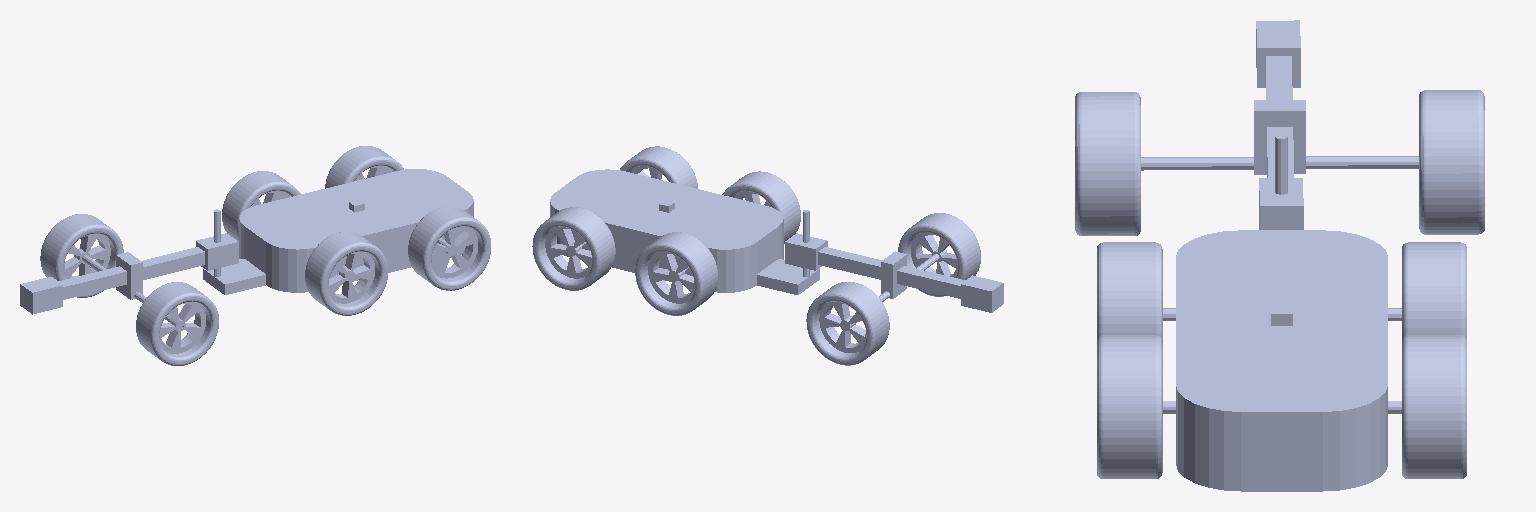
The robot description file, URDF, robot "car_sample":
<?xml version="1.0" encoding="utf-8"?>
<!-- This URDF was automatically created by SolidWorks to URDF Exporter! Originally created by [author] ([email redacted])
     Commit Version: 1.6.0-1-g15f4949  Build Version: 1.6.7594.29634
     For more information, please see http://wiki.ros.org/sw_urdf_exporter -->
<robot
  name="car_sample">
  <link
    name="base_footprint_link">

  </link>
  <link
    name="base_link">
    <inertial>
      <origin
        xyz="0.0311047953221113 -3.07460541279329E-06 0.0988375969266445"
        rpy="0 0 0" />
      <mass
        value="93.7017907857414" />
      <inertia
        ixx="2.05155668597246"
        ixy="-0.000190686516366707"
        ixz="-0.0661121479684108"
        iyy="7.87268899063513"
        iyz="2.91444870281255E-05"
        izz="9.28547608261676" />
    </inertial>
    <visual>
      <origin
        xyz="0 0 0"
        rpy="0 0 0" />
      <geometry>
        <mesh
          filename="package://car_sample/meshes/base_link.STL" />
      </geometry>
      <material
        name="">
        <color
          rgba="0.792156862745098 0.819607843137255 0.933333333333333 1" />
      </material>
    </visual>
    <collision>
      <origin
        xyz="0 0 0"
        rpy="0 0 0" />
      <geometry>
        <mesh
          filename="package://car_sample/meshes/base_link.STL" />
      </geometry>
    </collision>
  </link>
  <gazebo reference="base_link">
    <material>Gazebo/White</material>
    <selfCollide>true</selfCollide>
  </gazebo>
  <joint
    name="base_link_joint"
    type="fixed">
    <origin
      xyz="0 0 0.065"
      rpy="0 0 0" />
    <parent
      link="base_footprint_link" />
    <child
      link="base_link" />
    <axis
      xyz="0 0 0" />
  </joint>
  <link
    name="potential_link">
    <inertial>
      <origin
        xyz="-0.429254748784664 -0.00335150189802721 -0.197173586404001"
        rpy="0 0 0" />
      <mass
        value="6.89001102509344" />
      <inertia
        ixx="0.0468982581959443"
        ixy="-0.00452622726574964"
        ixz="0.000258875342996197"
        iyy="0.646005462114825"
        iyz="-1.08164098234481E-05"
        izz="0.676451866172125" />
    </inertial>
    <visual>
      <origin
        xyz="0 0 0"
        rpy="0 0 0" />
      <geometry>
        <mesh
          filename="package://car_sample/meshes/potential_link.STL" />
      </geometry>
      <material
        name="">
        <color
          rgba="0.792156862745098 0.819607843137255 0.933333333333333 1" />
      </material>
    </visual>
    <collision>
      <origin
        xyz="0 0 0"
        rpy="0 0 0" />
      <geometry>
        <mesh
          filename="package://car_sample/meshes/potential_link.STL" />
      </geometry>
    </collision>
  </link>
<gazebo reference="potential_link">
    <material>Gazebo/White</material>
    <selfCollide>true</selfCollide>
  </gazebo>
  <joint
    name="potential_link_joint"
    type="continuous">
    <origin
      xyz="-0.63078 -0.0013586 0.35"
      rpy="0 0 0" />
      <dynamics friction="2"/>
    <parent
      link="base_link" />
    <child
      link="potential_link" />
    <axis
      xyz="0 0 1" />
    <limit
      lower="0"
      upper="0"
      effort="0"
      velocity="0" />
  </joint>
  <link
    name="L_link">
    <inertial>
      <origin
        xyz="0.00019519 -0.024999 2.2204E-16"
        rpy="0 0 0" />
      <mass
        value="6.789" />
      <inertia
        ixx="0.073434"
        ixy="-0.00042251"
        ixz="-1.4684E-17"
        iyy="0.12754"
        iyz="-2.6995E-17"
        izz="0.073431" />
    </inertial>
    <visual>
      <origin
        xyz="0 0 0"
        rpy="0 0 0" />
      <geometry>
        <mesh
          filename="package://car_sample/meshes/L_link.STL" />
      </geometry>
      <material
        name="">
        <color
          rgba="0.79216 0.81961 0.93333 1" />
      </material>
    </visual>
    <collision>
      <origin
        xyz="0 0 0"
        rpy="0 0 0" />
      <geometry>
        <mesh
          filename="package://car_sample/meshes/L_link.STL" />
      </geometry>
    </collision>
  </link>
<gazebo reference="L_link">
    <material>Gazebo/Black</material>
    <selfCollide>true</selfCollide>
  </gazebo>
  <joint
    name="L_joint"
    type="continuous">
    <origin
      xyz="-0.42824 0.41367 -0.265"
      rpy="0 0 0" />
      <dynamics friction="1"/>
    <parent
      link="potential_link" />
    <child
      link="L_link" />
    <axis
      xyz="0 1 0" />
  </joint>
  <link
    name="R_link">
    <inertial>
      <origin
        xyz="-0.00019519 0.024999 1.1102E-16"
        rpy="0 0 0" />
      <mass
        value="6.789" />
      <inertia
        ixx="0.073434"
        ixy="-0.00042251"
        ixz="6.2188E-19"
        iyy="0.12754"
        iyz="-3.8293E-17"
        izz="0.073431" />
    </inertial>
    <visual>
      <origin
        xyz="0 0 0"
        rpy="0 0 0" />
      <geometry>
        <mesh
          filename="package://car_sample/meshes/R_link.STL" />
      </geometry>
      <material
        name="">
        <color
          rgba="0.79216 0.81961 0.93333 1" />
      </material>
    </visual>
    <collision>
      <origin
        xyz="0 0 0"
        rpy="0 0 0" />
      <geometry>
        <mesh
          filename="package://car_sample/meshes/R_link.STL" />
      </geometry>
    </collision>
  </link>
<gazebo reference="R_link">
    <material>Gazebo/Black</material>
    <selfCollide>true</selfCollide>
  </gazebo>
  <joint
    name="R_joint"
    type="continuous">
    <origin
      xyz="-0.41921 -0.42029 -0.26521"
      rpy="0 0 0" />
      <dynamics friction="1"/>
    <parent
      link="potential_link" />
    <child
      link="R_link" />
    <axis
      xyz="0 1 0" />
  </joint>
  <link
    name="LF_link">
    <inertial>
      <origin
        xyz="5.55111512312578E-17 -0.0249999999999999 1.11022302462516E-16"
        rpy="0 0 0" />
      <mass
        value="6.78904509236314" />
      <inertia
        ixx="0.0734309679871221"
        ixy="1.41390840403187E-20"
        ixz="1.32348898008415E-20"
        iyy="0.127548069927643"
        iyz="-2.49612899515053E-20"
        izz="0.0734309679871221" />
    </inertial>
    <visual>
      <origin
        xyz="0 0 0"
        rpy="0 0 0" />
      <geometry>
        <mesh
          filename="package://car_sample/meshes/LF_link.STL" />
      </geometry>
      <material
        name="">
        <color
          rgba="0.792156862745098 0.819607843137255 0.933333333333333 1" />
      </material>
    </visual>
    <collision>
      <origin
        xyz="0 0 0"
        rpy="0 0 0" />
      <geometry>
        <mesh
          filename="package://car_sample/meshes/LF_link.STL" />
      </geometry>
    </collision>
  </link>
<gazebo reference="LF_link">
    <material>Gazebo/Black</material>
    <selfCollide>true</selfCollide>
  </gazebo>
  <joint
    name="LF_joint"
    type="continuous">
    <origin
      xyz="0.29328 0.3725 0.1"
      rpy="0 0 0" />
      <dynamics friction="2"/>
    <parent
      link="base_link" />
    <child
      link="LF_link" />
    <axis
      xyz="0 1 0" />
  </joint>
  <link
    name="LR_link">
    <inertial>
      <origin
        xyz="1.11022302462516E-16 -0.025 2.22044604925031E-16"
        rpy="0 0 0" />
      <mass
        value="6.78904509236314" />
      <inertia
        ixx="0.0734309679871221"
        ixy="-2.05141328700057E-19"
        ixz="-5.29916164366107E-18"
        iyy="0.127548069927643"
        iyz="7.2468785370554E-18"
        izz="0.0734309679871221" />
    </inertial>
    <visual>
      <origin
        xyz="0 0 0"
        rpy="0 0 0" />
      <geometry>
        <mesh
          filename="package://car_sample/meshes/LR_link.STL" />
      </geometry>
      <material
        name="">
        <color
          rgba="0.792156862745098 0.819607843137255 0.933333333333333 1" />
      </material>
    </visual>
    <collision>
      <origin
        xyz="0 0 0"
        rpy="0 0 0" />
      <geometry>
        <mesh
          filename="package://car_sample/meshes/LR_link.STL" />
      </geometry>
    </collision>
  </link>
<gazebo reference="LR_link">
    <material>Gazebo/Black</material>
    <selfCollide>true</selfCollide>
  </gazebo>
  <joint
    name="LR_joint"
    type="continuous">
    <origin
      xyz="-0.20472 0.3725 0.1"
      rpy="0 0 0" />
      <dynamics friction="2"/>
    <parent
      link="base_link" />
    <child
      link="LR_link" />
    <axis
      xyz="0 1 0" />
  </joint>
  <link
    name="RF_link">
    <inertial>
      <origin
        xyz="0 0.025 0"
        rpy="0 0 0" />
      <mass
        value="6.78904509236314" />
      <inertia
        ixx="0.0734309679871221"
        ixy="1.46664827039991E-19"
        ixz="-1.19114008207636E-18"
        iyy="0.127548069927643"
        iyz="-8.89330655265835E-21"
        izz="0.0734309679871221" />
    </inertial>
    <visual>
      <origin
        xyz="0 0 0"
        rpy="0 0 0" />
      <geometry>
        <mesh
          filename="package://car_sample/meshes/RF_link.STL" />
      </geometry>
      <material
        name="">
        <color
          rgba="0.792156862745098 0.819607843137255 0.933333333333333 1" />
      </material>
    </visual>
    <collision>
      <origin
        xyz="0 0 0"
        rpy="0 0 0" />
      <geometry>
        <mesh
          filename="package://car_sample/meshes/RF_link.STL" />
      </geometry>
    </collision>
  </link>
<gazebo reference="RF_link">
    <material>Gazebo/Black</material>
    <selfCollide>true</selfCollide>
  </gazebo>
  <joint
    name="RF_joint"
    type="continuous">
    <origin
      xyz="0.29328 -0.3725 0.1"
      rpy="0 0 0" />
      <dynamics friction="2"/>
    <parent
      link="base_link" />
    <child
      link="RF_link" />
    <axis
      xyz="0 1 0" />
  </joint>
  <link
    name="RR_link">
    <inertial>
      <origin
        xyz="-1.94289029309402E-16 0.0249999999999999 2.22044604925031E-16"
        rpy="0 0 0" />
      <mass
        value="6.78904509236315" />
      <inertia
        ixx="0.0734309679871222"
        ixy="2.29518052766348E-18"
        ixz="5.19024815104054E-18"
        iyy="0.127548069927643"
        iyz="-1.10751048560327E-17"
        izz="0.0734309679871221" />
    </inertial>
    <visual>
      <origin
        xyz="0 0 0"
        rpy="0 0 0" />
      <geometry>
        <mesh
          filename="package://car_sample/meshes/RR_link.STL" />
      </geometry>
      <material
        name="">
        <color
          rgba="0.792156862745098 0.819607843137255 0.933333333333333 1" />
      </material>
    </visual>
    <collision>
      <origin
        xyz="0 0 0"
        rpy="0 0 0" />
      <geometry>
        <mesh
          filename="package://car_sample/meshes/RR_link.STL" />
      </geometry>
    </collision>
  </link>
<gazebo reference="RR_link">
    <material>Gazebo/Black</material>
    <selfCollide>true</selfCollide>
  </gazebo>
  <joint
    name="RR_joint"
    type="continuous">
    <origin
      xyz="-0.20472 -0.3725 0.1"
      rpy="0 0 0" />
      <dynamics friction="2"/>
    <parent
      link="base_link" />
    <child
      link="RR_link" />
    <axis
      xyz="0 1 0" />
  </joint>
  <link
    name="sensor_link">
    <inertial>
      <origin
        xyz="-0.0131763958667367 -3.07460541276901E-06 -0.131162403073355"
        rpy="0 0 0" />
      <mass
        value="93.7017907857414" />
      <inertia
        ixx="2.05155668597246"
        ixy="-0.000190686516366677"
        ixz="-0.0661121479684105"
        iyy="7.87268899063513"
        iyz="2.91444870280917E-05"
        izz="9.28547608261676" />
    </inertial>

  </link>
  <joint
    name="sensor_joint"
    type="fixed">
    <origin
      xyz="0.044281 0 0.23"
      rpy="0 0 0" />
    <parent
      link="base_link" />
    <child
      link="sensor_link" />
    <axis
      xyz="0 0 0" />
  </joint>
  <gazebo>
   <plugin name="imu_plugin" filename="libgazebo_ros_imu.so">
        <alwaysOn>true</alwaysOn>
        <bodyName>base_footprint_link</bodyName>
        <topicName>imu_data</topicName>
        <serviceName>imu_service</serviceName>
        <gaussianNoise>0.0</gaussianNoise>
        <updateRate>20.0</updateRate>
      </plugin>
    </gazebo>
<gazebo>
  <plugin name="skid_steer_drive_controller" filename="libgazebo_ros_skid_steer_drive.so">
    <updateRate>100.0</updateRate>
    <robotNamespace>/</robotNamespace>
    <leftFrontJoint>LF_joint</leftFrontJoint>
    <rightFrontJoint>RF_joint</rightFrontJoint>
    <leftRearJoint>LR_joint</leftRearJoint>
    <rightRearJoint>RR_joint</rightRearJoint>
    <wheelSeparation>0.4</wheelSeparation>
    <wheelDiameter>0.330</wheelDiameter>
    <robotBaseFrame>base_link</robotBaseFrame>
    <torque>20</torque>
    <topicName>cmd_vel</topicName>
    <broadcastTF>false</broadcastTF>
    <odometryTopic>odom</odometryTopic>
    <odometryFrame>base_link</odometryFrame>
  </plugin>
</gazebo>

</robot>

--- What the picture shows (computed from the rendered views, not written in the file) ---
3 views of the same robot in one strip: view 1: azimuth 30°, elevation 25°; view 2: azimuth 150°, elevation 25°; view 3: azimuth 270°, elevation 25° (orthographic).
Model car_sample with 10 links and 9 joints (7 continuous, 2 fixed), rooted at base_footprint_link, posed every joint at zero.
Visible links, largest first — view 1: base_link, potential_link, RR_link, RF_link, R_link, L_link, LR_link, LF_link; view 2: base_link, potential_link, LR_link, LF_link, L_link, R_link, RR_link, RF_link; view 3: base_link, potential_link, L_link, R_link, RF_link, LF_link, RR_link, LR_link.
Boxes of the visible links, left/top/right/bottom form: base_link: left=203, top=169, right=473, bottom=294; potential_link: left=20, top=233, right=238, bottom=328; RR_link: left=305, top=232, right=387, bottom=315; RF_link: left=408, top=207, right=490, bottom=290; R_link: left=136, top=282, right=218, bottom=365; L_link: left=40, top=214, right=123, bottom=297; LR_link: left=222, top=171, right=300, bottom=241; LF_link: left=325, top=146, right=403, bottom=188; base_link: left=550, top=169, right=819, bottom=294; potential_link: left=785, top=233, right=1003, bottom=328; LR_link: left=635, top=232, right=717, bottom=315; LF_link: left=532, top=207, right=615, bottom=290; L_link: left=806, top=282, right=889, bottom=365; R_link: left=898, top=213, right=980, bottom=296; RR_link: left=722, top=171, right=800, bottom=243; RF_link: left=620, top=146, right=697, bottom=188; base_link: left=1163, top=134, right=1401, bottom=491; potential_link: left=1141, top=20, right=1419, bottom=229; L_link: left=1419, top=90, right=1484, bottom=234; R_link: left=1075, top=92, right=1140, bottom=235; RF_link: left=1097, top=335, right=1162, bottom=478; LF_link: left=1402, top=335, right=1466, bottom=478; RR_link: left=1097, top=242, right=1162, bottom=340; LR_link: left=1402, top=242, right=1466, bottom=337.
Bounding box of the posed robot: 2.09 × 0.9363 × 0.4302 m (x, y, z).
Meshes: 8 distinct files referenced, 8 mesh visuals loaded (8 binary STL).